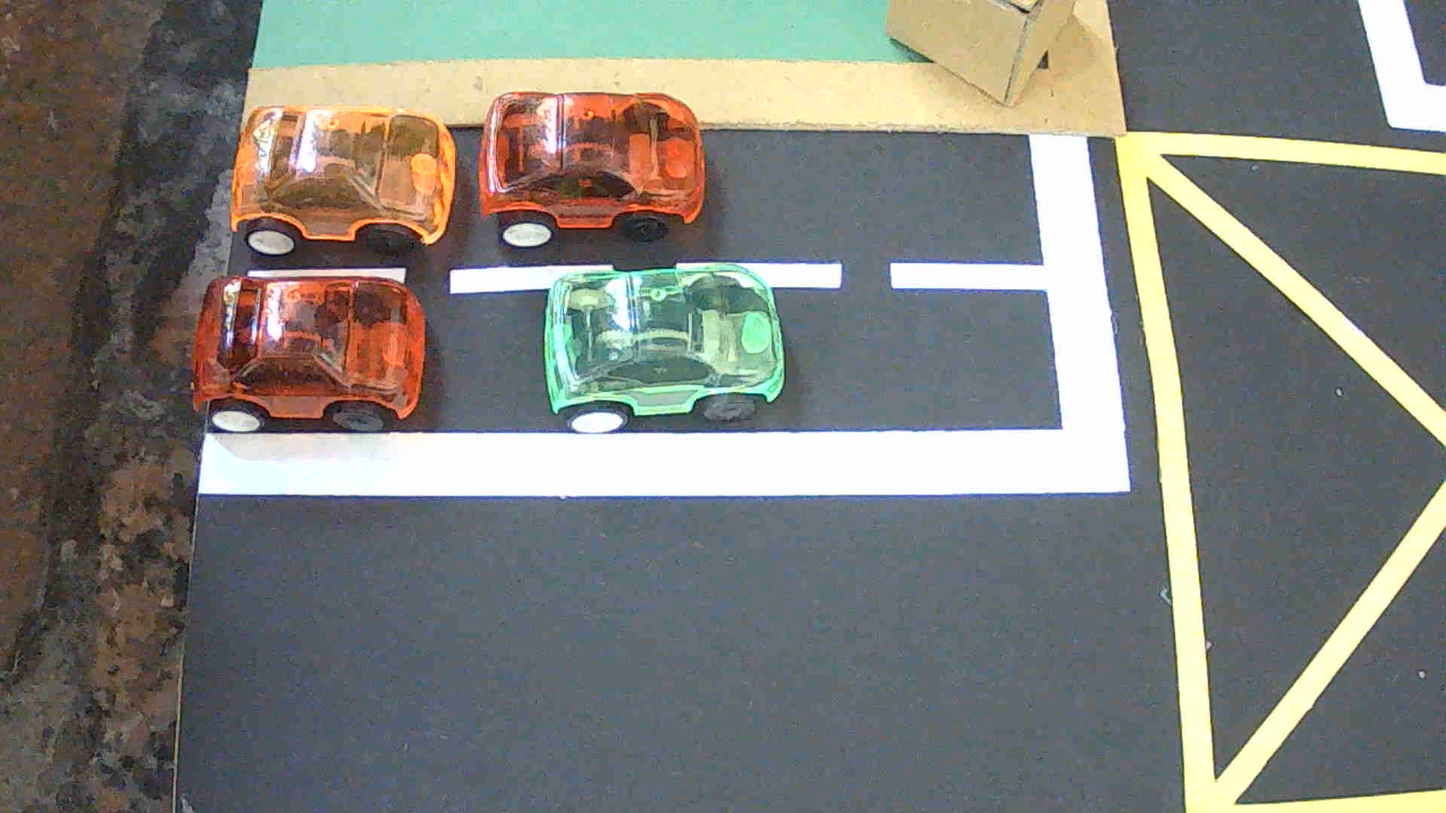Mobil hijau: (545, 264, 784, 433)
Mobil merah: (193, 274, 425, 432), (477, 92, 705, 248)
Mobil orange: (231, 106, 455, 257)
